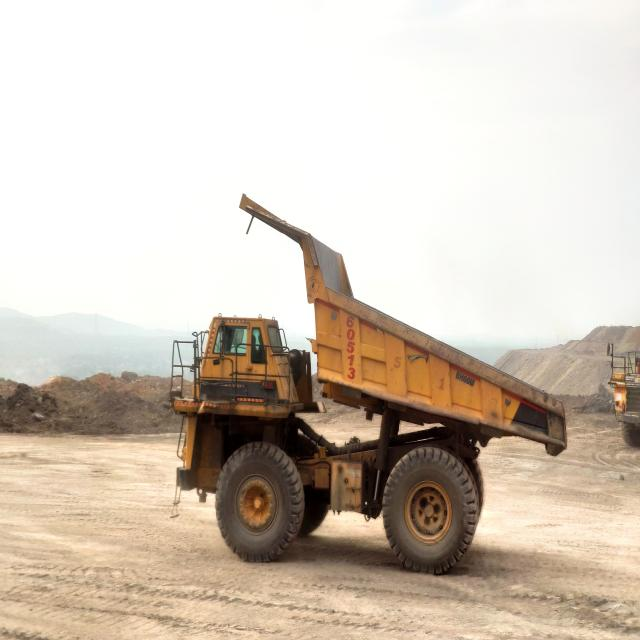dump_truck: (170, 195, 568, 573)
